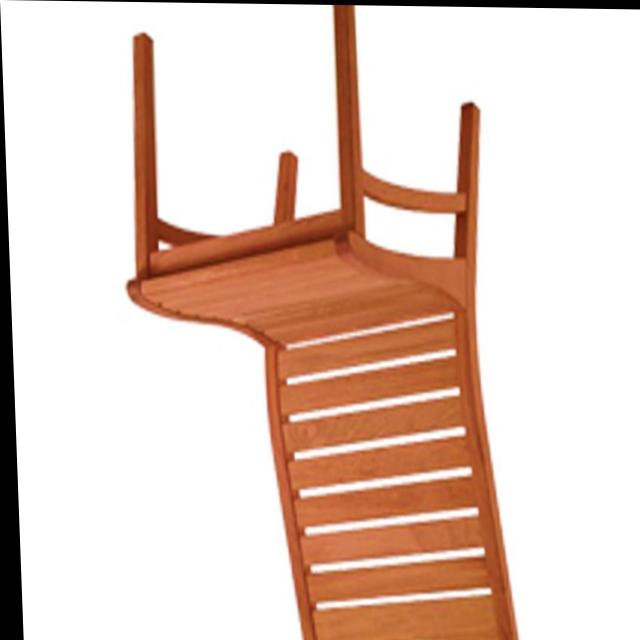Chair: (119, 1, 519, 640)
